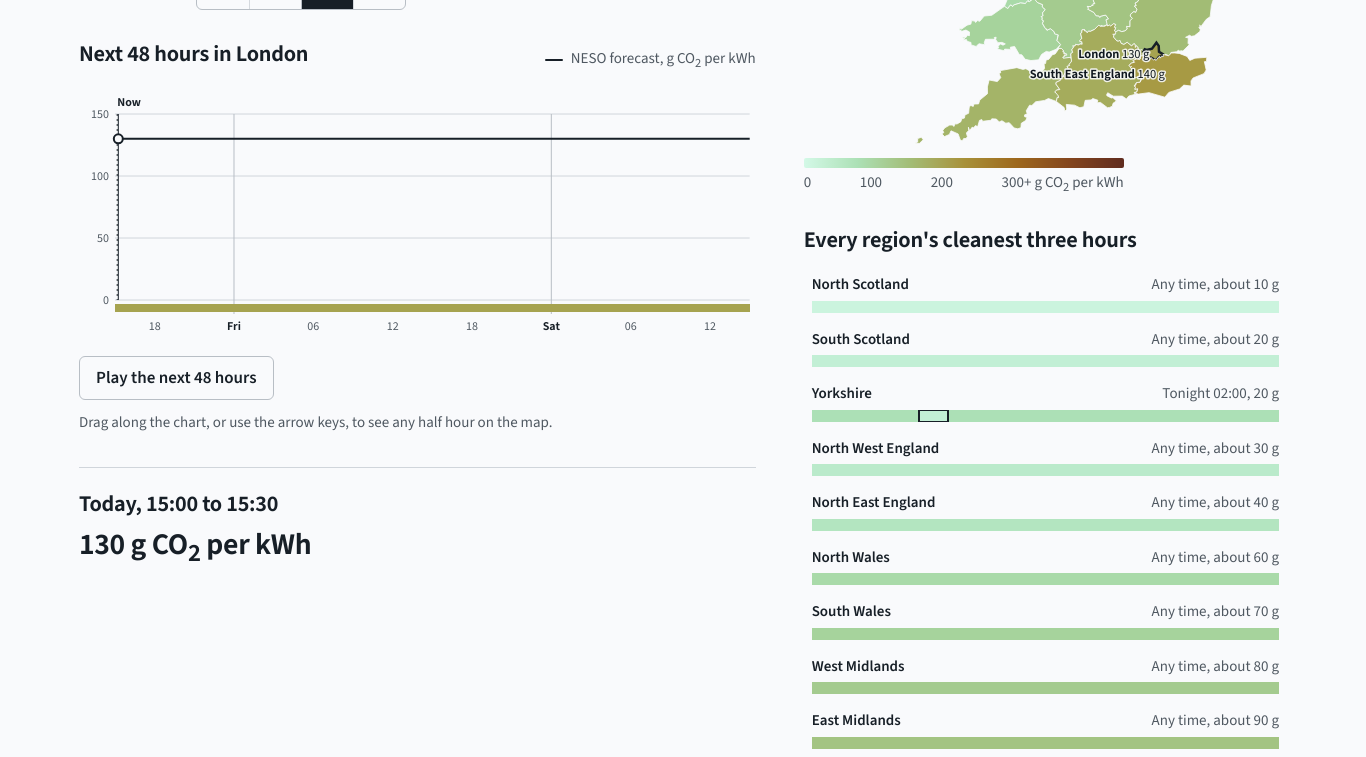
Test: stops at the last half hour and plays again from the start
Later steps or results of the test are not shown.
(page scrolled)
Click the button "Play the next 48 hours" at (176, 378), box [79,356,274,400]
Wait 9000 ms
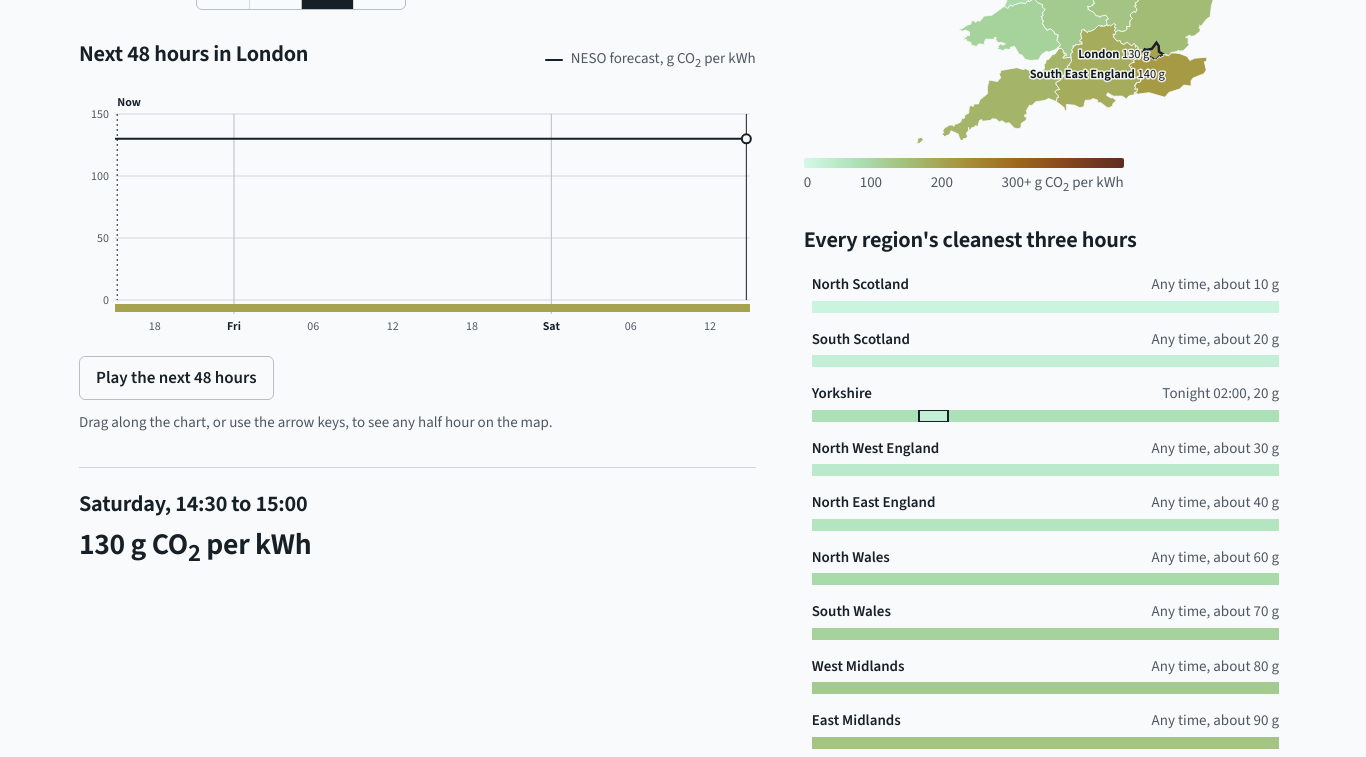
Expected: the slider has attribute aria-valuenow="95", [79,84,756,344]
Click the button "Play the next 48 hours" at (176, 378), box [79,356,274,400]
Wait 180 ms
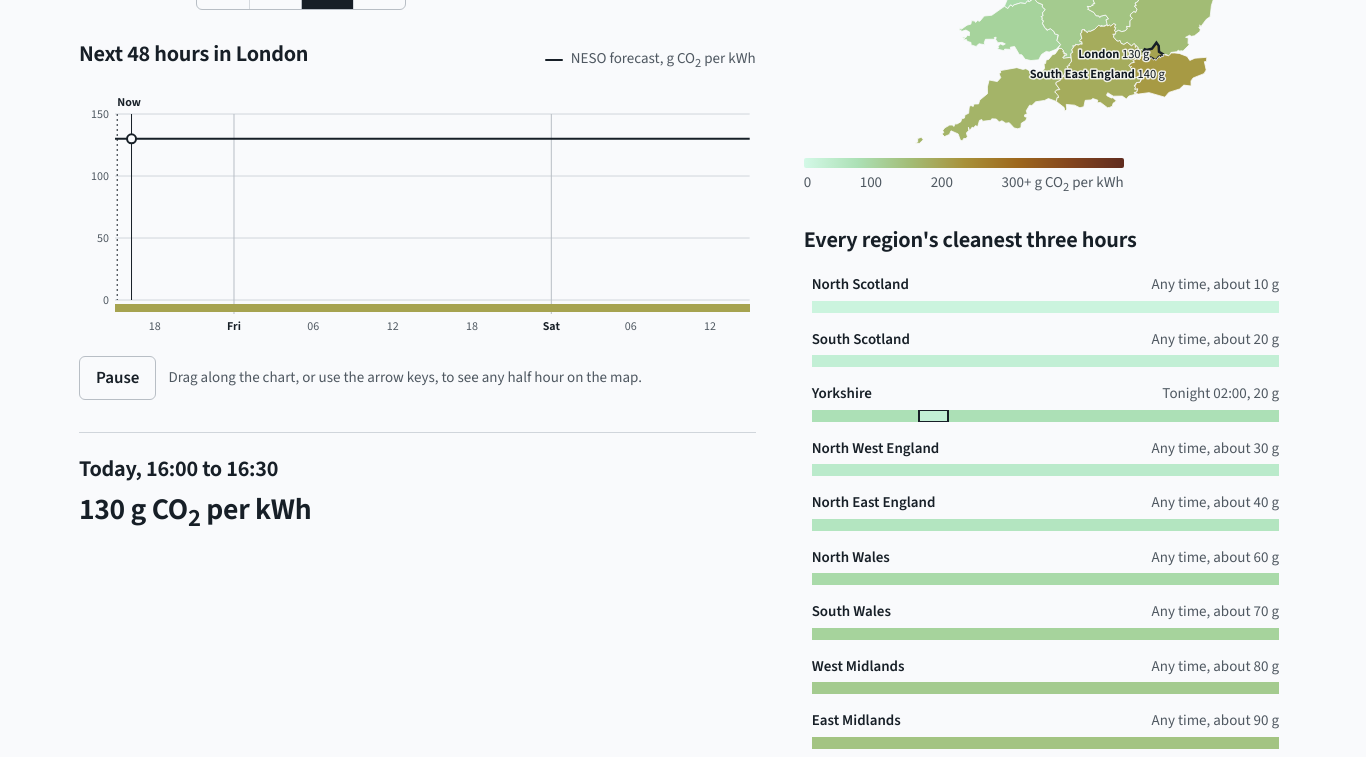
Expected: the slider has attribute aria-valuenow="2", [79,84,756,344]
